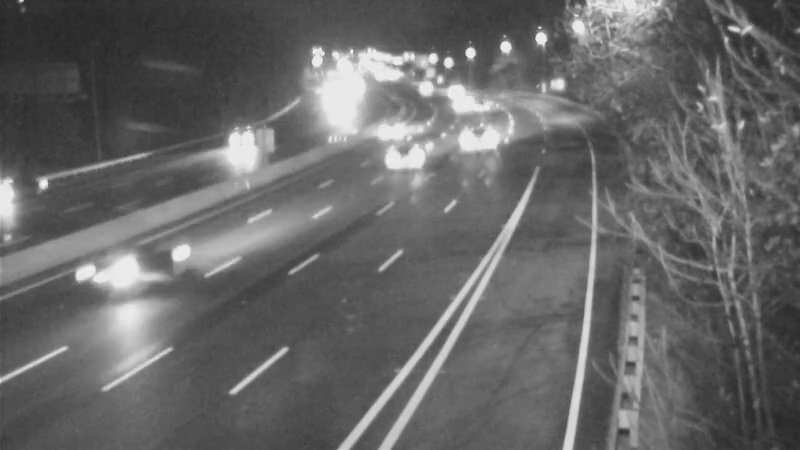vehicle: (66, 233, 146, 313), (1, 156, 66, 236), (435, 65, 485, 115), (389, 64, 439, 114), (432, 78, 482, 128), (458, 81, 508, 131), (369, 101, 419, 151), (451, 110, 501, 160), (391, 121, 441, 171), (215, 114, 265, 164)
